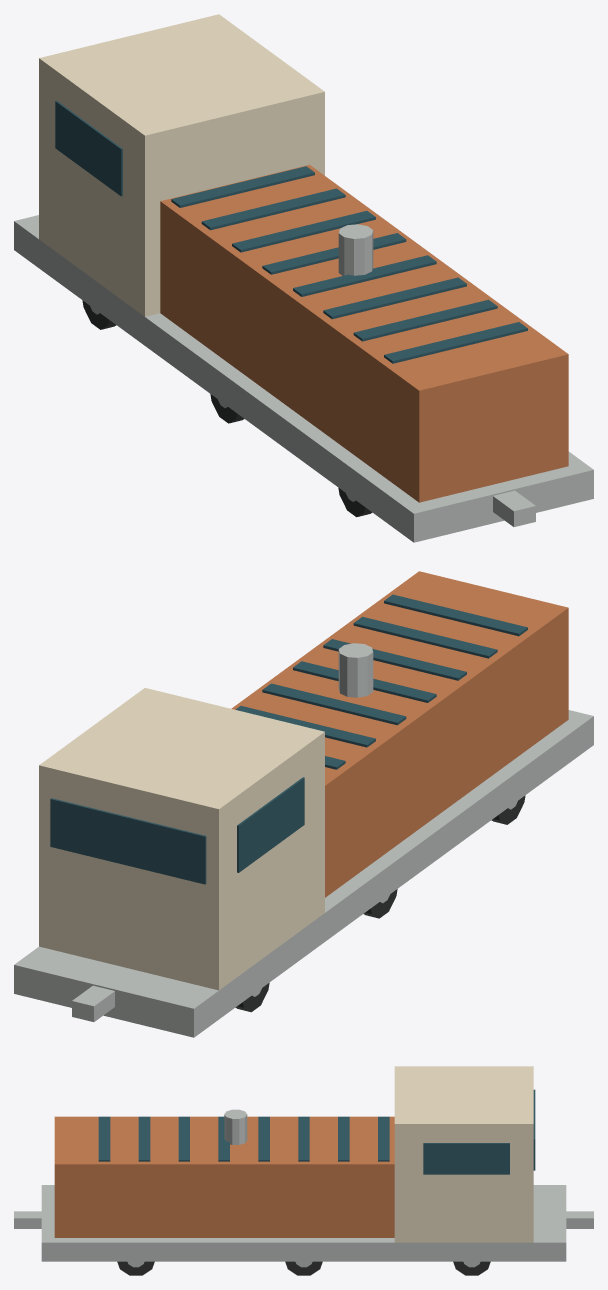
File: train.glb
3 views of the same model, one above another, from view 1: azimuth 30°, elevation 25°; view 2: azimuth 150°, elevation 25°; view 3: azimuth 270°, elevation 25° (orthographic). The views are drawn at different scales.
Visible parts, largest first — view 1: Long engine hood, Tall cab, TrainModel traffic_metal, TrainModel traffic_glass, TrainModel traffic_rubber; view 2: Tall cab, Long engine hood, TrainModel traffic_metal, TrainModel traffic_glass, TrainModel traffic_rubber; view 3: Long engine hood, Tall cab, TrainModel traffic_metal, TrainModel traffic_glass, TrainModel traffic_rubber.
Part boxes in pixels (left/top/right/bottom): Long engine hood: left=160, top=164, right=568, bottom=502; Tall cab: left=39, top=14, right=324, bottom=316; TrainModel traffic_metal: left=14, top=215, right=593, bottom=542; TrainModel traffic_glass: left=55, top=100, right=527, bottom=363; TrainModel traffic_rubber: left=82, top=300, right=372, bottom=517; Tall cab: left=39, top=688, right=324, bottom=990; Long engine hood: left=231, top=571, right=568, bottom=897; TrainModel traffic_metal: left=14, top=643, right=593, bottom=1037; TrainModel traffic_glass: left=50, top=594, right=527, bottom=884; TrainModel traffic_rubber: left=235, top=795, right=525, bottom=1012; Long engine hood: left=54, top=1116, right=394, bottom=1237; Tall cab: left=394, top=1066, right=533, bottom=1242; TrainModel traffic_metal: left=14, top=1109, right=593, bottom=1267; TrainModel traffic_glass: left=98, top=1089, right=535, bottom=1174; TrainModel traffic_rubber: left=117, top=1261, right=490, bottom=1275.
Size of the model in its own units: 2.65 by 3.26 by 11.05.
